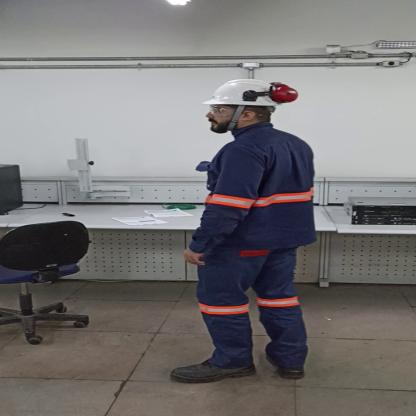Capacete: (198, 77, 300, 109)
